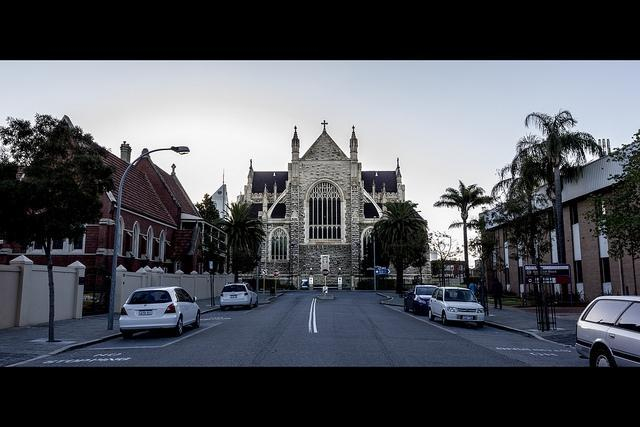car: (574, 296, 640, 368), (118, 287, 202, 339), (429, 287, 484, 328), (219, 283, 259, 310), (403, 286, 438, 316), (84, 294, 100, 311)
